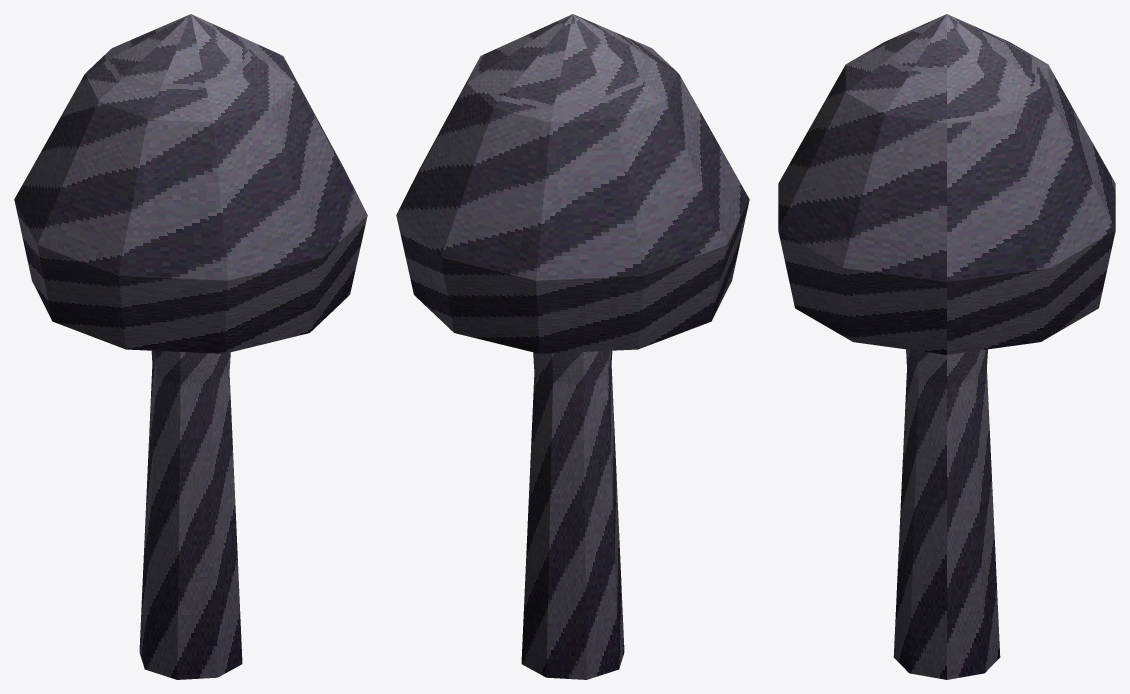
Rendered from fumo_negro.glb.
3 renders of one model, left to right at view 1: azimuth 30°, elevation 25°; view 2: azimuth 150°, elevation 25°; view 3: azimuth 270°, elevation 25°, orthographic.
Parts seen in each view (by area): view 1: fumo_negro; view 2: fumo_negro; view 3: fumo_negro.
Part boxes in pixels (<box>): fumo_negro: <box>14,14,367,679</box>; fumo_negro: <box>396,14,749,679</box>; fumo_negro: <box>778,14,1115,679</box>.
Size of the model in its own units: 0.38 by 0.76 by 0.3614.
1 material, 1 textured.
